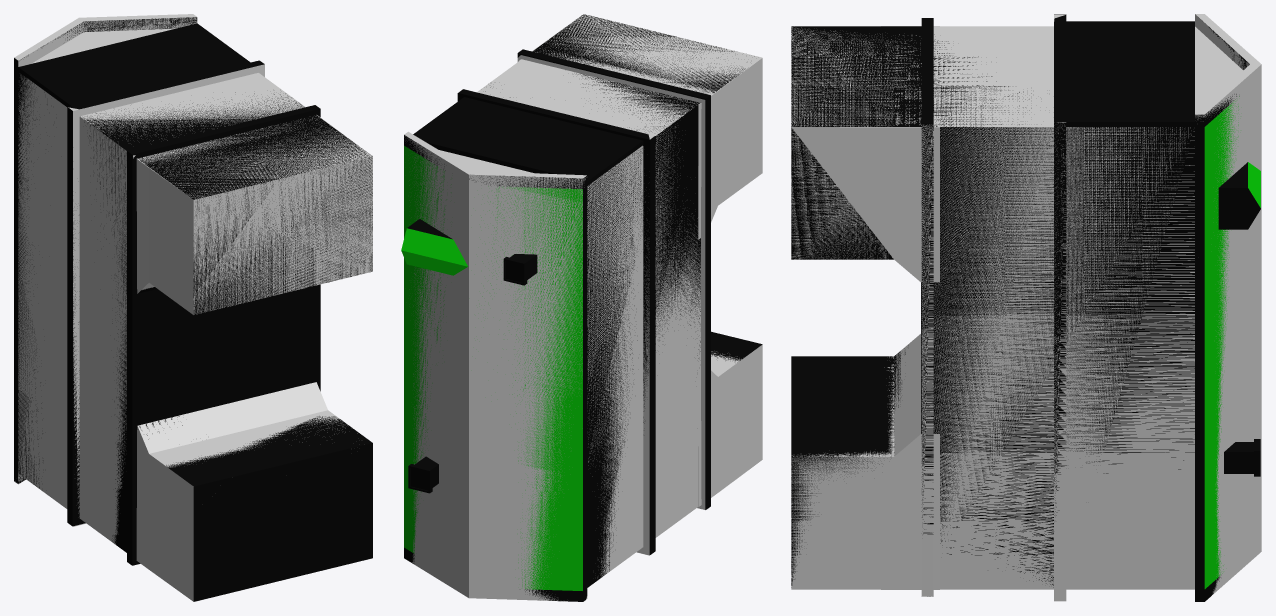
Rendered from Building3Model.fbx.
The picture shows the model from 3 angles, left to right: view 1: azimuth 30°, elevation 25°; view 2: azimuth 150°, elevation 25°; view 3: azimuth 270°, elevation 25°; orthographic projection. The views are drawn at different scales.
Parts seen in each view (by area): view 1: Building3Model_col, Building3Model; view 2: Building3Model_col, Building3Model; view 3: Building3Model_col, Building3Model.
Part boxes in pixels (x1=…): Building3Model_col: x1=14, y1=14, x2=372, y2=601; Building3Model: x1=14, y1=17, x2=372, y2=601; Building3Model_col: x1=404, y1=14, x2=762, y2=600; Building3Model: x1=401, y1=14, x2=762, y2=601; Building3Model_col: x1=791, y1=14, x2=1261, y2=601; Building3Model: x1=791, y1=14, x2=1260, y2=601.
Size of the model in its own units: 1069 by 2246 by 1964.
